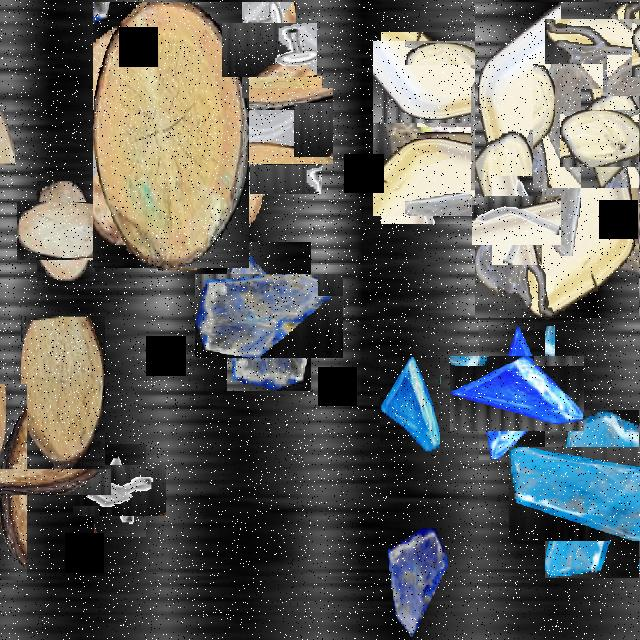glass: (526, 428, 640, 559), (211, 258, 327, 375), (212, 73, 318, 179), (464, 340, 570, 446), (533, 64, 603, 188), (387, 528, 449, 638), (380, 357, 440, 464)
metal: (232, 12, 306, 88), (84, 454, 156, 527), (482, 186, 552, 255)
plastic: (475, 2, 639, 318), (377, 36, 561, 220), (553, 10, 640, 104), (570, 99, 640, 177)
wood: (93, 2, 249, 268), (128, 50, 296, 220), (21, 316, 105, 470), (471, 76, 573, 198), (0, 426, 69, 537), (26, 192, 106, 270), (0, 91, 14, 165)
